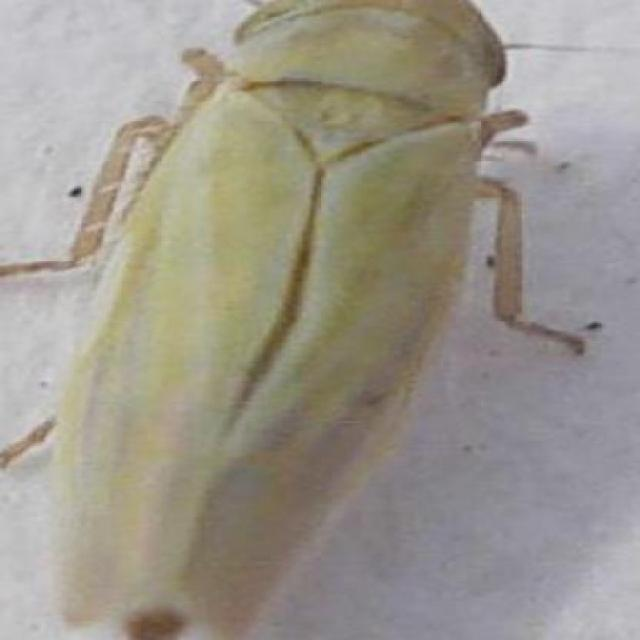green-leafhopper: (64, 1, 520, 640)
